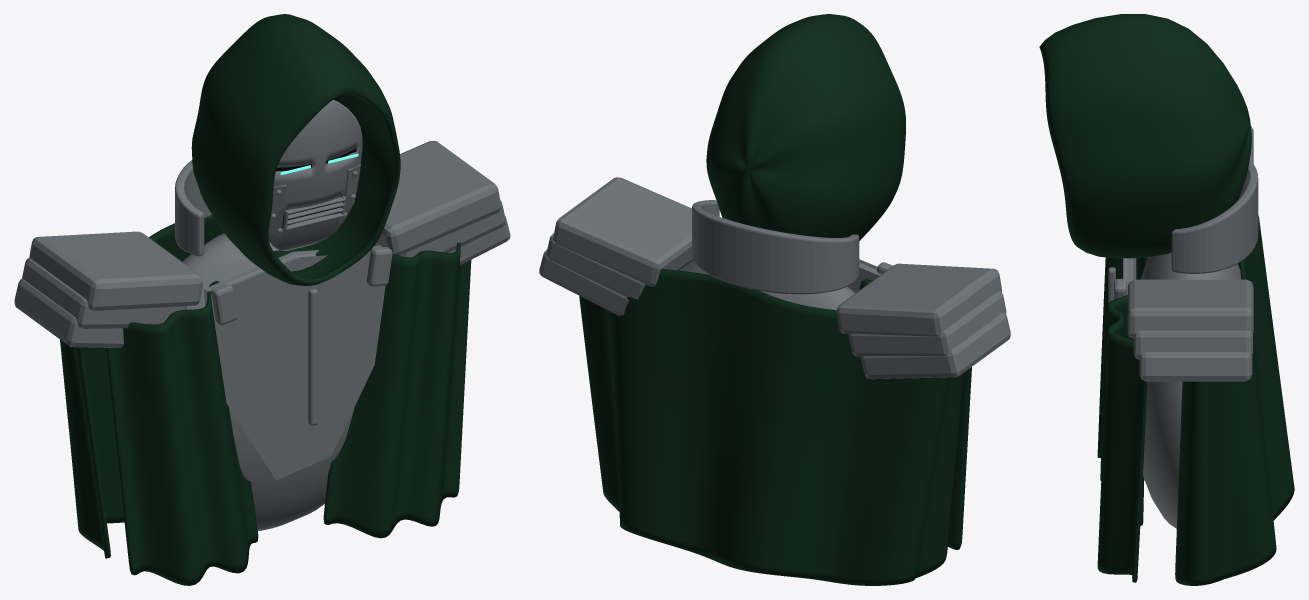
Rendered from sovereign.glb.
The picture shows the model from 3 angles, left to right: view 1: azimuth 30°, elevation 25°; view 2: azimuth 150°, elevation 25°; view 3: azimuth 270°, elevation 25°; orthographic projection. The views are drawn at different scales.
Visible parts, largest first — view 1: sovereign_cloth, sovereign_armour; view 2: sovereign_cloth, sovereign_armour; view 3: sovereign_cloth, sovereign_armour.
Boxes of the visible parts, box(x1,y1,x2,y2) form: sovereign_cloth: box(60, 14, 471, 585); sovereign_armour: box(14, 99, 510, 530); sovereign_cloth: box(579, 14, 971, 585); sovereign_armour: box(539, 177, 1010, 379); sovereign_cloth: box(1039, 14, 1294, 585); sovereign_armour: box(1108, 125, 1258, 528).
Size of the model in its own units: 7.54 by 8.54 by 3.93.
